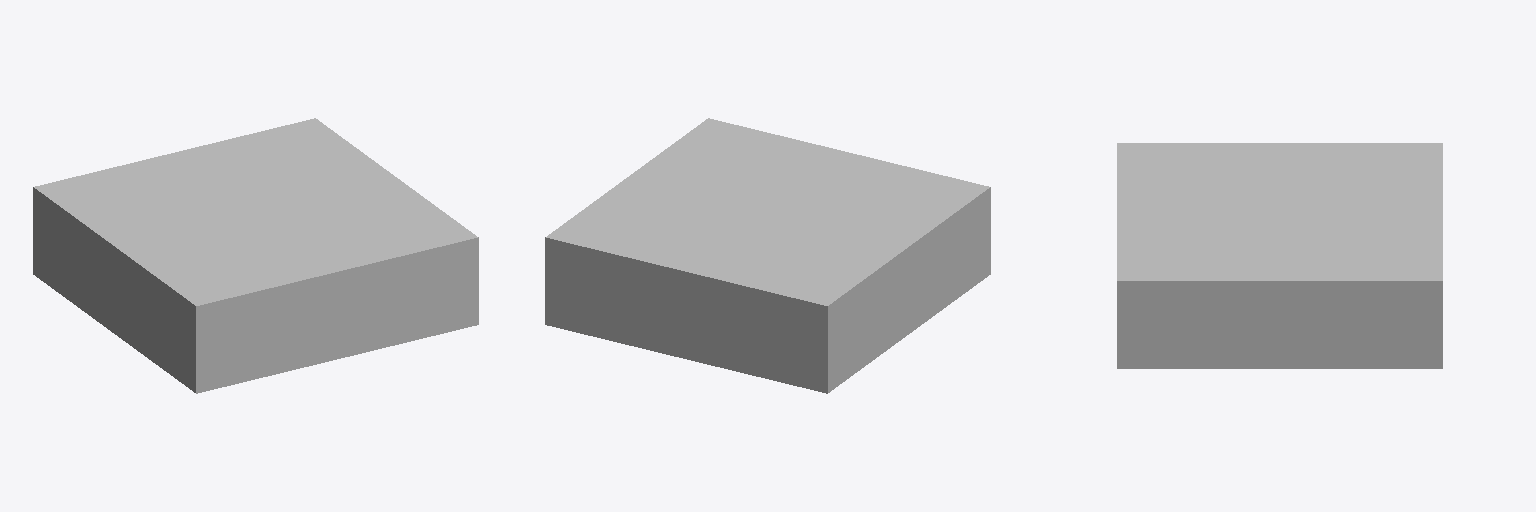
Rendered from Lava_0.obj.
3 views of the same model, side by side, from view 1: azimuth 30°, elevation 25°; view 2: azimuth 150°, elevation 25°; view 3: azimuth 270°, elevation 25° (orthographic).
Visible parts, largest first — view 1: _(2)__31_-61_-152_to_33_319_-150; view 2: _(2)__31_-61_-152_to_33_319_-150; view 3: _(2)__31_-61_-152_to_33_319_-150.
Part boxes in pixels (x1,y1,x2,y2): _(2)__31_-61_-152_to_33_319_-150: (33, 118, 478, 393); _(2)__31_-61_-152_to_33_319_-150: (545, 118, 990, 393); _(2)__31_-61_-152_to_33_319_-150: (1117, 143, 1442, 368).
Bounding box in the file's own units: 3 × 0.8889 × 3.